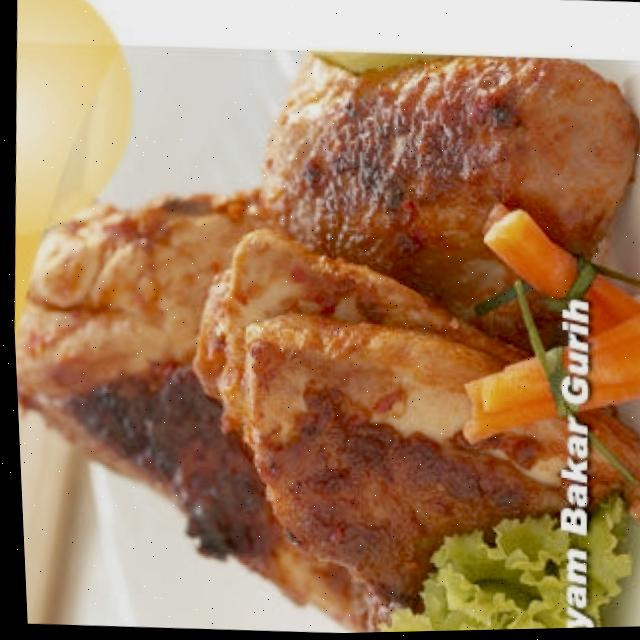鸡肉料理 含炸鸡: (1, 21, 640, 640)
